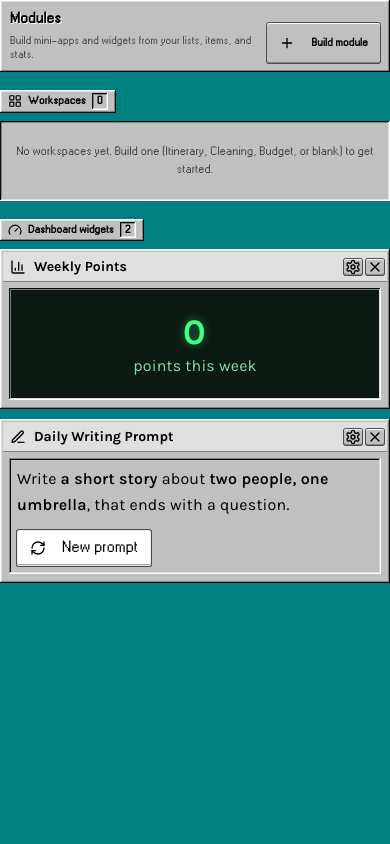
Test case: ModulesPanel › removes a module when the remove button is clicked
Step 1. Click the button named "Remove" in the row of "Weekly Points" → point(375, 267), box [366,259,384,275]
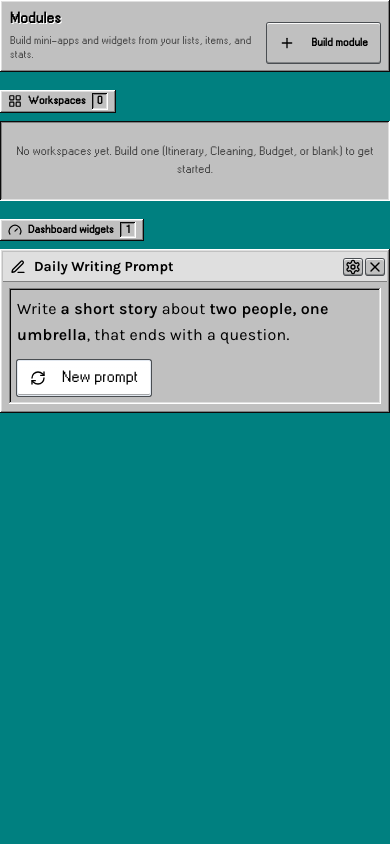
Expected: the text "Daily Writing Prompt" is shown, [34,255,174,279]
Now the text "Weekly Points" is gone
